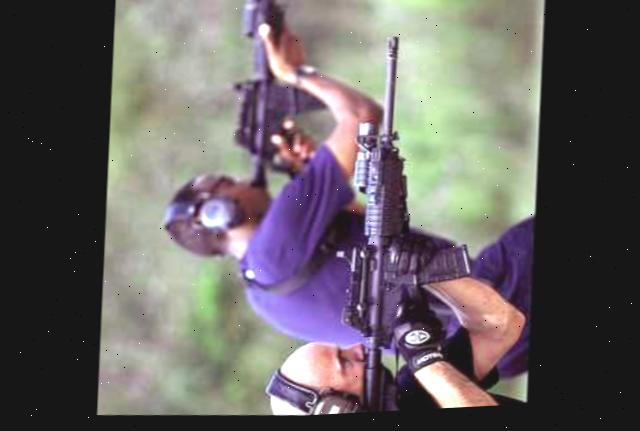rifle: (329, 13, 475, 418), (208, 0, 338, 219)
